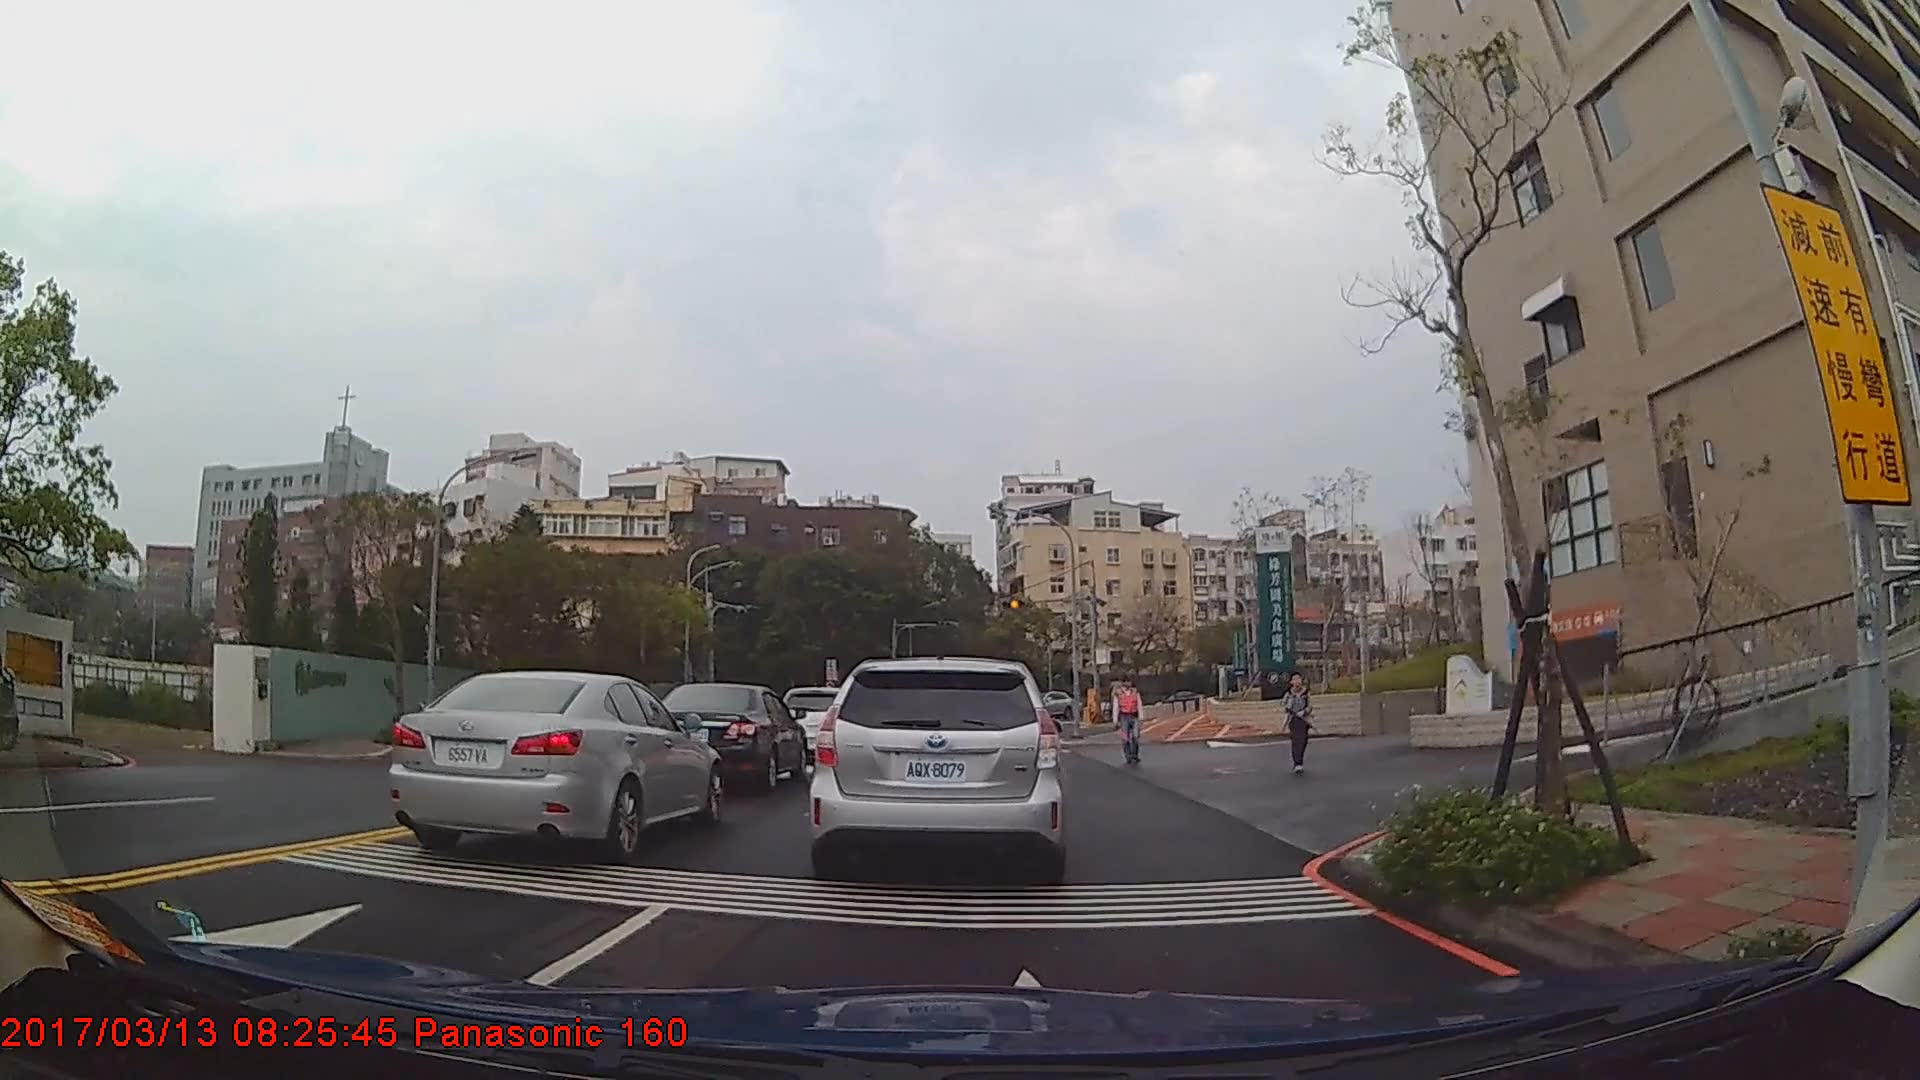pedestrian: (1284, 672, 1316, 775), (1116, 677, 1143, 768)
vehicle: (386, 670, 722, 858), (807, 654, 1067, 877), (649, 680, 808, 789)
